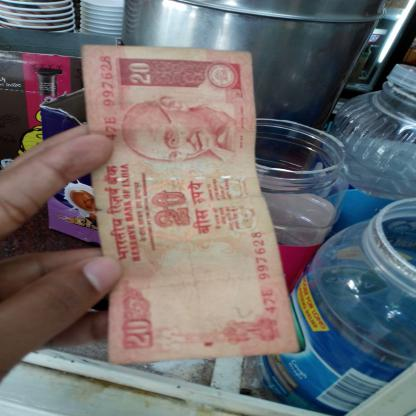Old20Front: (80, 45, 301, 365)
